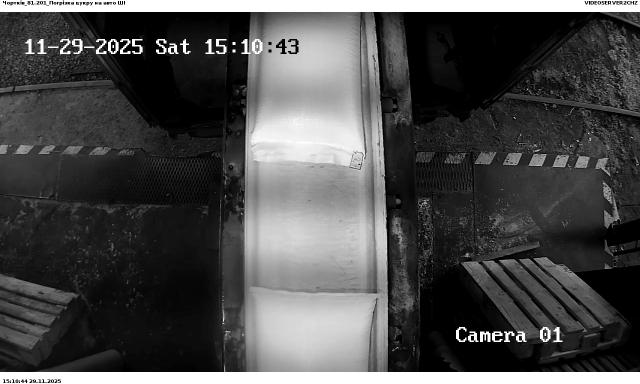bag: (251, 11, 366, 170), (250, 286, 381, 372)
